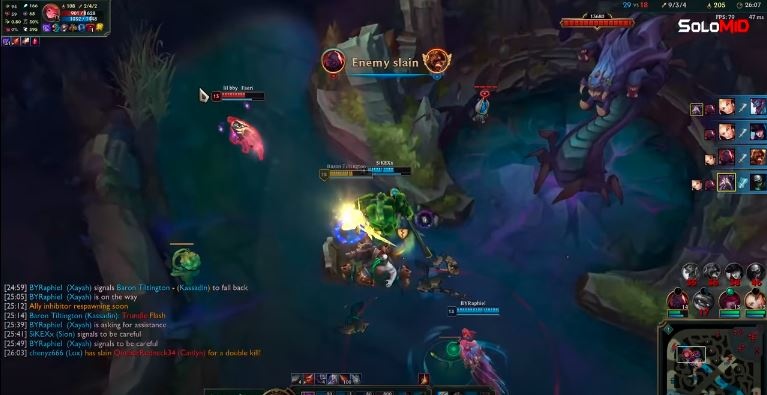bar: (210, 88, 268, 103)
dog: (350, 163, 414, 178), (317, 168, 376, 183), (446, 305, 503, 317)
